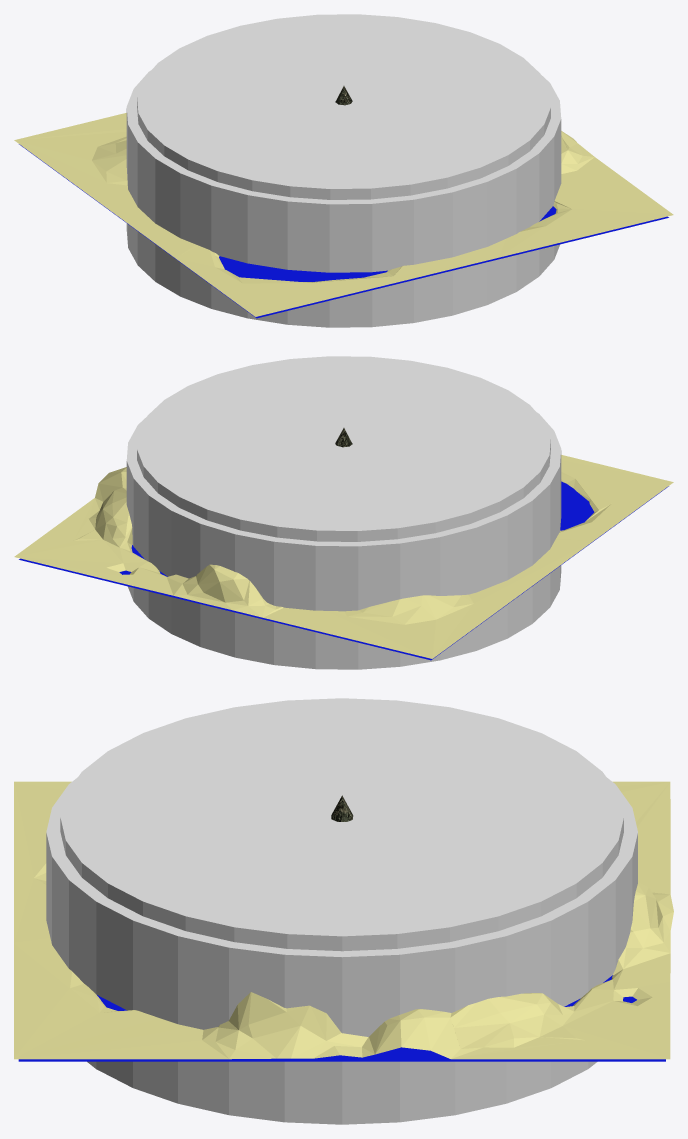
The model's file is wwmap.fbx.
The picture shows the model from 3 angles, top to bottom: view 1: azimuth 30°, elevation 25°; view 2: azimuth 150°, elevation 25°; view 3: azimuth 270°, elevation 25°; orthographic projection. The views are drawn at different scales.
Visible parts, largest first — view 1: Playable Space, Wall, Sand, Water; view 2: Playable Space, Wall, Sand, Water; view 3: Playable Space, Wall, Sand, Water.
Part boxes in pixels (x1,y1,x2,y2): Playable Space: [137, 14, 550, 199]; Wall: [126, 70, 561, 327]; Sand: [14, 113, 673, 316]; Water: [19, 144, 668, 318]; Playable Space: [137, 356, 550, 541]; Wall: [126, 412, 561, 669]; Sand: [14, 455, 673, 658]; Water: [19, 481, 668, 660]; Playable Space: [60, 698, 623, 951]; Wall: [46, 777, 637, 1124]; Sand: [14, 781, 673, 1059]; Water: [18, 975, 665, 1061].
Size of the model in its own units: 35850 by 12312 by 35690.
